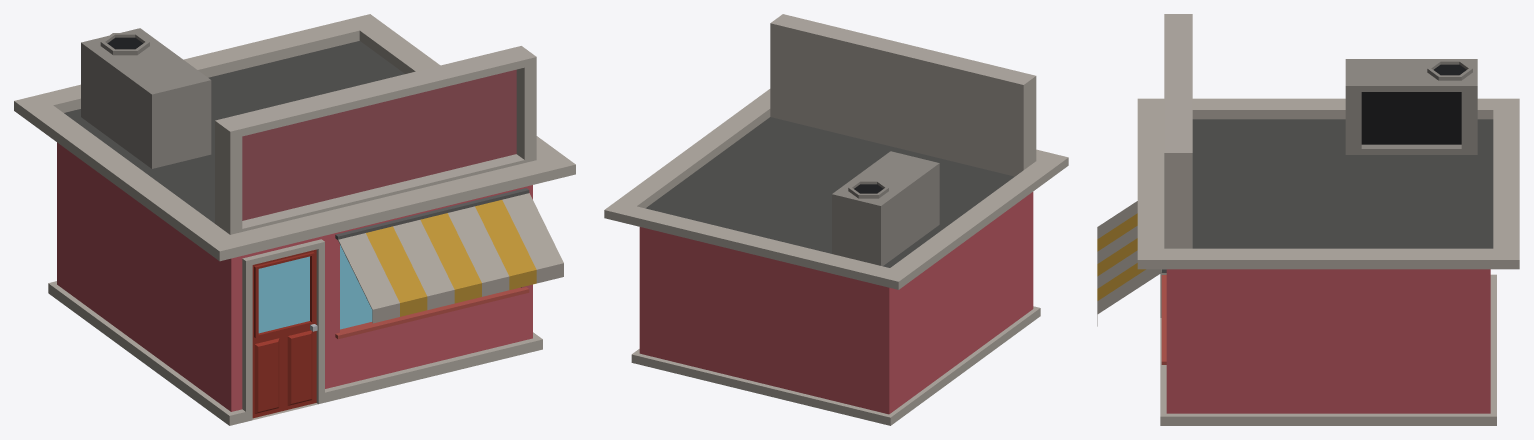
The model's file is SM_Market_01_A.gltf.
The picture shows the model from 3 angles, left to right: view 1: azimuth 30°, elevation 25°; view 2: azimuth 150°, elevation 25°; view 3: azimuth 270°, elevation 25°; orthographic projection. The views are drawn at different scales.
Parts seen in each view (by area): view 1: SM_Market_01_A; view 2: SM_Market_01_A; view 3: SM_Market_01_A.
Part boxes in pixels (x1=…): SM_Market_01_A: x1=14, y1=14, x2=575, y2=425; SM_Market_01_A: x1=604, y1=14, x2=1068, y2=425; SM_Market_01_A: x1=1097, y1=14, x2=1519, y2=425.
Bounding box in the file's own units: 3.64 × 2.85 × 4.03.
